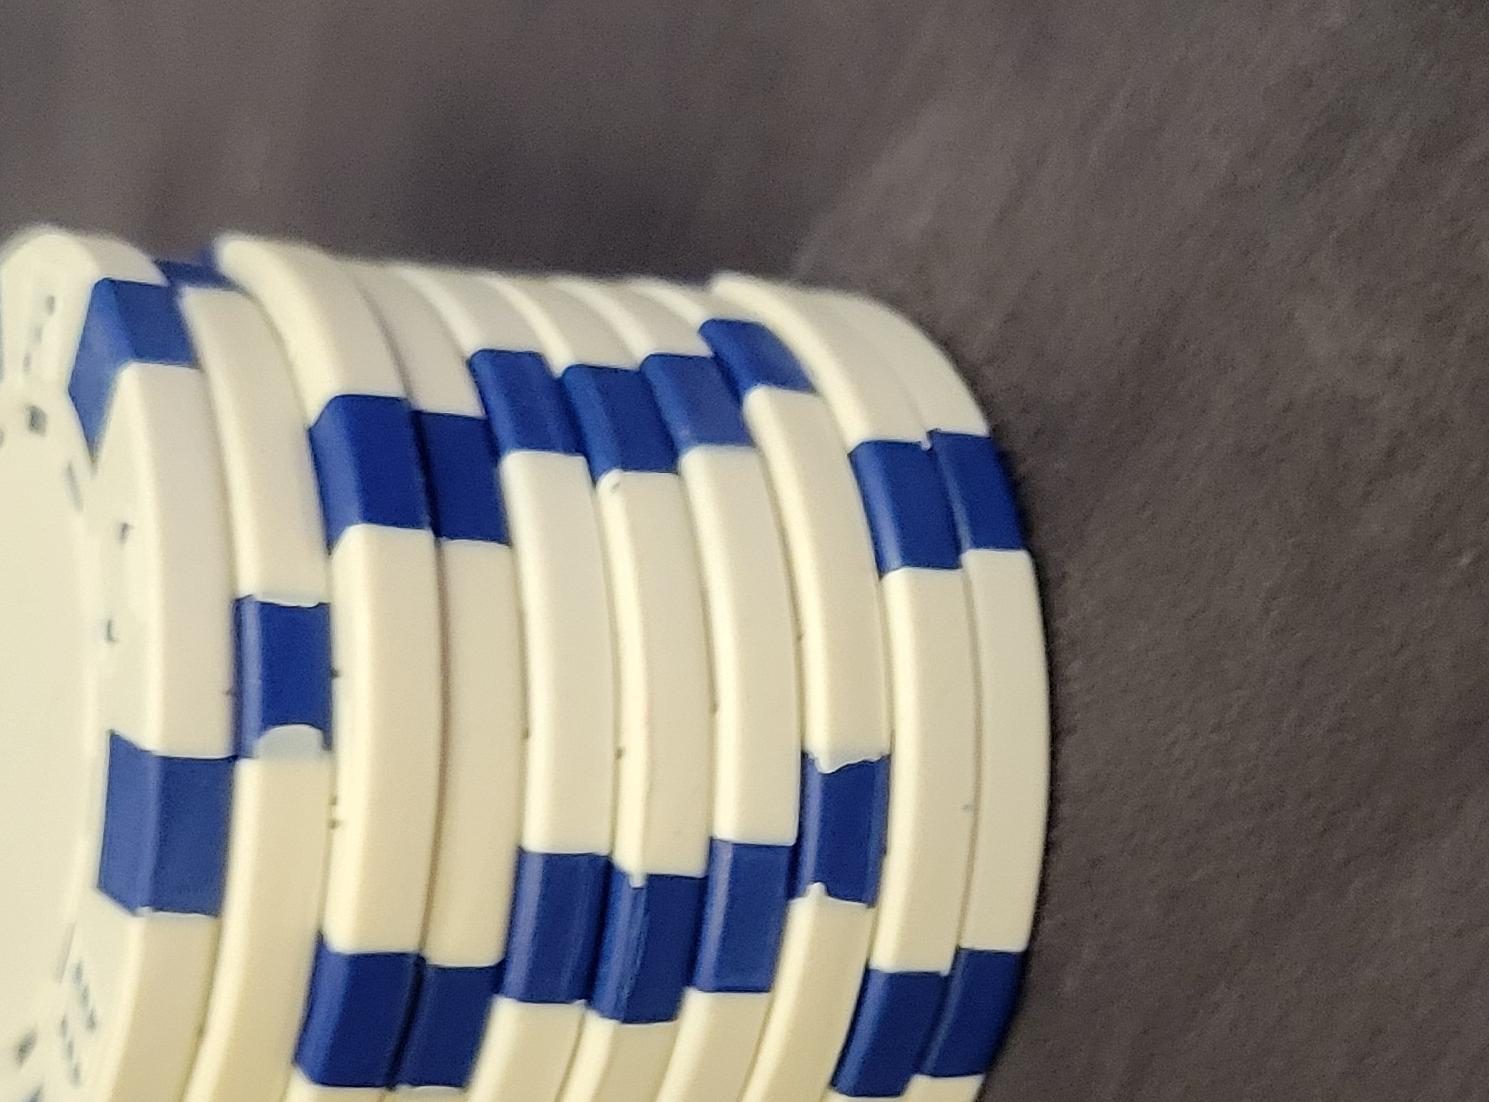Chip: (1, 250, 794, 1102)
